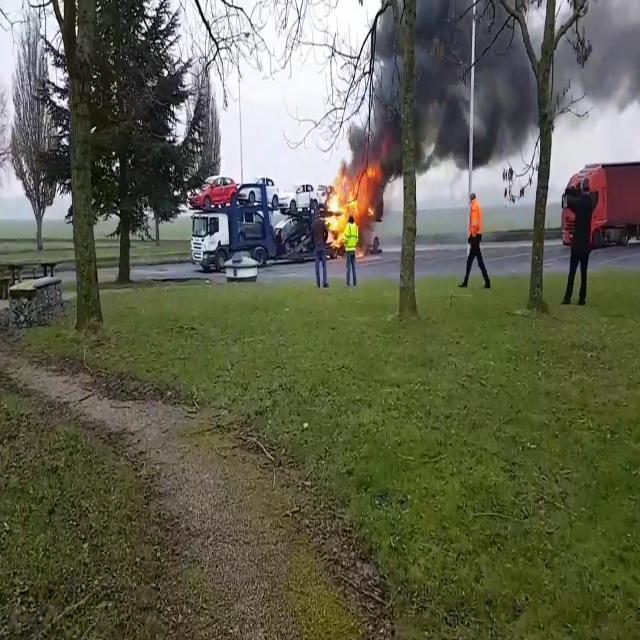Fire: (323, 161, 381, 250)
Smoke: (347, 1, 537, 172), (553, 1, 640, 139)
